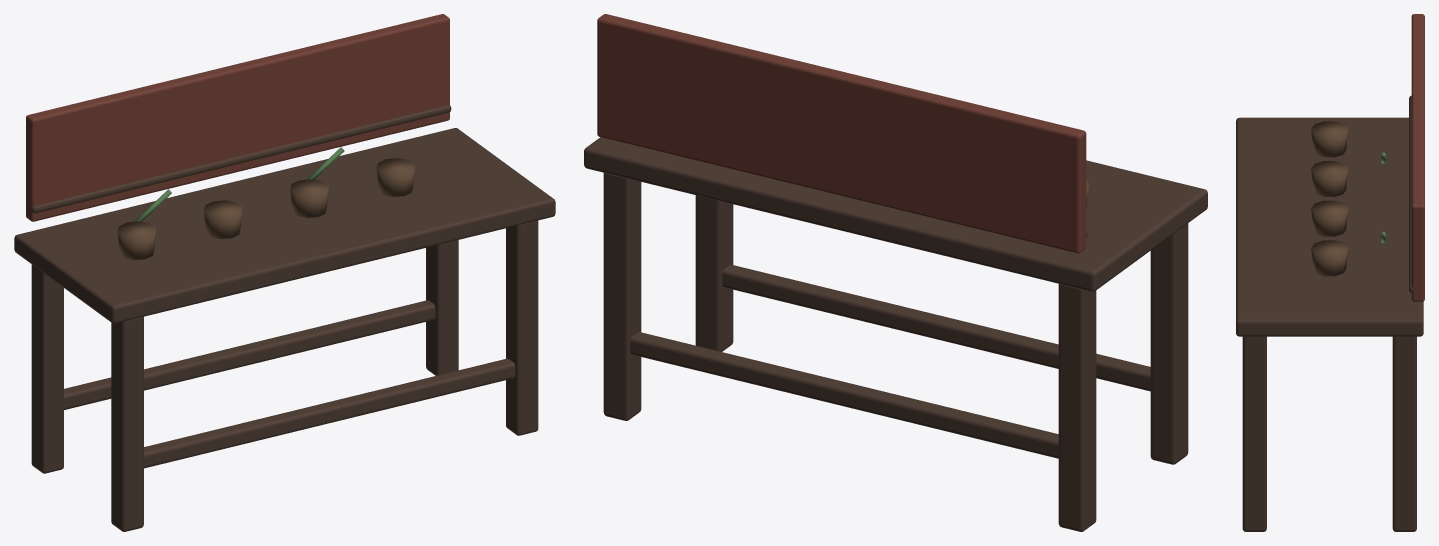
Rendered from lab_bench_herb_bench.glb.
The picture shows the model from 3 angles, left to right: view 1: azimuth 30°, elevation 25°; view 2: azimuth 150°, elevation 25°; view 3: azimuth 270°, elevation 25°; orthographic projection. The views are drawn at different scales.
Visible parts, largest first — view 1: GD_lab_bench_herb_bench__m0, GD_lab_bench_herb_bench__m3, GD_lab_bench_herb_bench__m1; view 2: GD_lab_bench_herb_bench__m0, GD_lab_bench_herb_bench__m3; view 3: GD_lab_bench_herb_bench__m0, GD_lab_bench_herb_bench__m1, GD_lab_bench_herb_bench__m3.
Part boxes in pixels (left/top/right/bottom): GD_lab_bench_herb_bench__m0: left=14, top=105, right=555, bottom=531; GD_lab_bench_herb_bench__m3: left=26, top=14, right=449, bottom=221; GD_lab_bench_herb_bench__m1: left=117, top=158, right=415, bottom=260; GD_lab_bench_herb_bench__m0: left=584, top=137, right=1207, bottom=531; GD_lab_bench_herb_bench__m3: left=597, top=14, right=1086, bottom=253; GD_lab_bench_herb_bench__m0: left=1236, top=95, right=1423, bottom=531; GD_lab_bench_herb_bench__m1: left=1311, top=121, right=1348, bottom=276; GD_lab_bench_herb_bench__m3: left=1411, top=14, right=1424, bottom=301.
Bounding box in the file's own units: 1.8 × 1.35 × 0.705.
